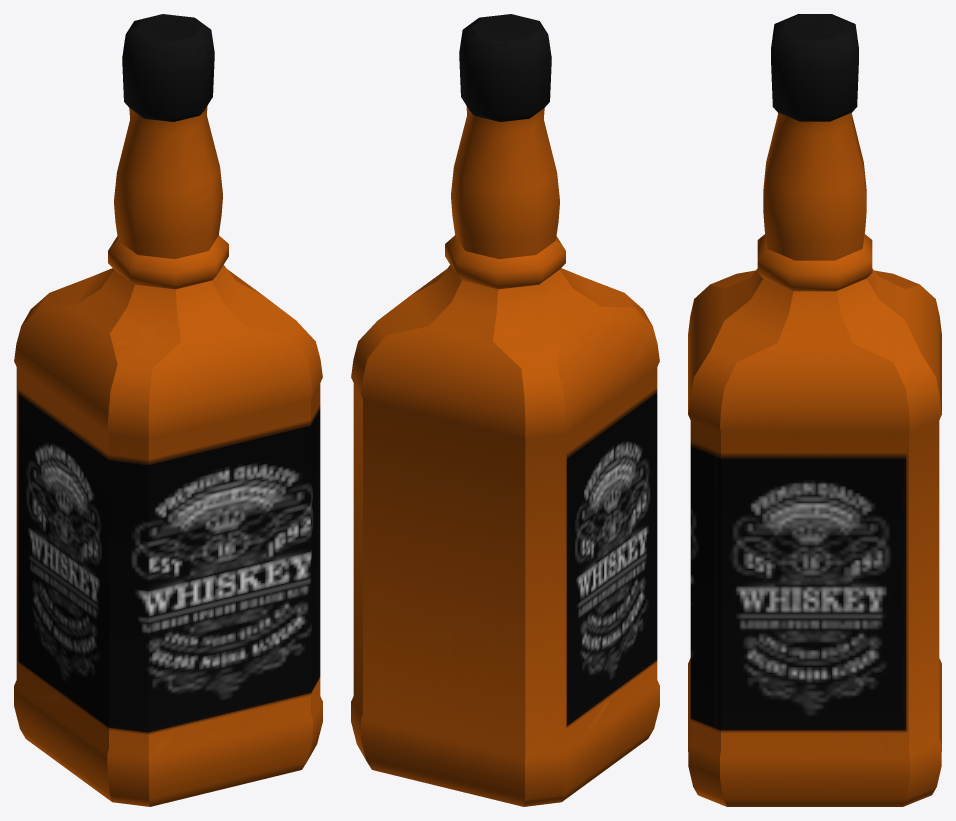
File: Prop_Drink_Bottles_x2.fbx
3 views of the same model, side by side, from view 1: azimuth 30°, elevation 25°; view 2: azimuth 150°, elevation 25°; view 3: azimuth 270°, elevation 25° (orthographic).
Parts seen in each view (by area): view 1: Prop_Drink_Bottles_x2; view 2: Prop_Drink_Bottles_x2; view 3: Prop_Drink_Bottles_x2.
Part boxes in pixels (<box>): Prop_Drink_Bottles_x2: <box>14,14,322,806</box>; Prop_Drink_Bottles_x2: <box>351,14,659,806</box>; Prop_Drink_Bottles_x2: <box>688,14,941,806</box>.
Size of the model in its own units: 4.92 by 15.76 by 4.93.
